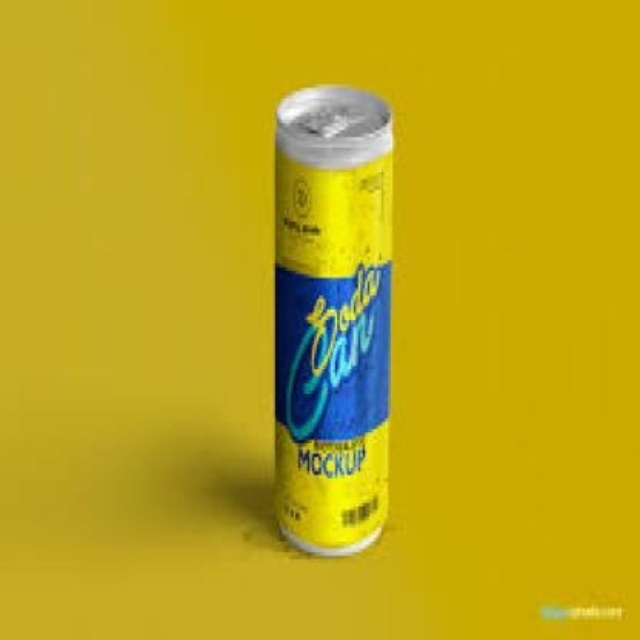trash: (275, 86, 392, 554)
